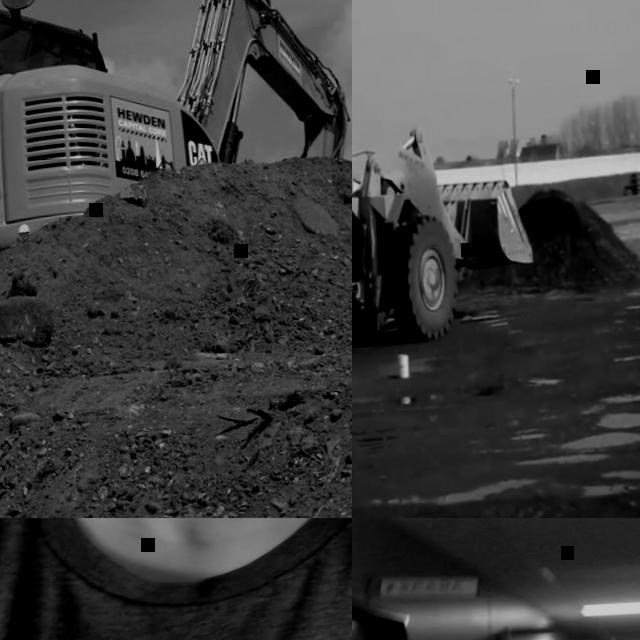NO-Safety Vest: (0, 518, 352, 640)
Person: (0, 518, 352, 640)
machinery: (0, 0, 352, 306), (352, 53, 540, 382)
